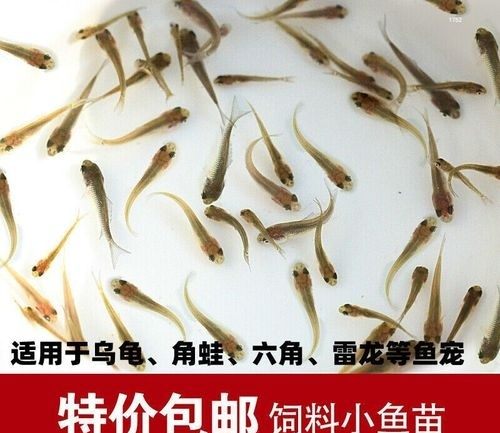fry: (292, 111, 362, 191), (76, 155, 125, 262), (185, 295, 251, 360), (1, 100, 77, 155), (250, 113, 300, 188), (286, 258, 325, 354), (108, 101, 196, 142), (126, 137, 179, 203), (194, 120, 235, 205), (387, 210, 441, 274), (420, 137, 458, 224), (108, 273, 176, 315), (180, 213, 226, 272), (108, 319, 155, 376), (419, 255, 449, 342), (414, 67, 462, 120), (1, 35, 62, 75), (26, 221, 67, 280), (95, 27, 132, 92), (11, 275, 62, 322), (179, 26, 214, 94), (59, 297, 96, 361), (243, 179, 307, 214), (1, 169, 28, 251), (63, 10, 128, 43), (454, 274, 488, 335), (312, 226, 344, 287), (378, 333, 428, 372), (255, 217, 318, 247), (40, 110, 80, 157), (212, 68, 289, 92), (346, 89, 396, 124), (333, 296, 389, 326), (120, 3, 154, 52), (137, 56, 175, 97), (348, 319, 401, 348), (127, 47, 172, 81), (296, 1, 356, 26), (200, 203, 244, 237), (471, 20, 498, 73), (473, 317, 500, 366), (407, 258, 430, 315), (444, 70, 489, 99), (431, 155, 473, 186), (297, 38, 335, 72), (358, 45, 395, 76), (175, 1, 222, 24), (248, 1, 299, 21), (239, 203, 269, 236), (424, 1, 474, 20), (459, 155, 500, 176), (165, 14, 184, 59), (205, 24, 234, 50), (20, 300, 41, 333), (349, 65, 379, 88), (375, 83, 398, 102)
